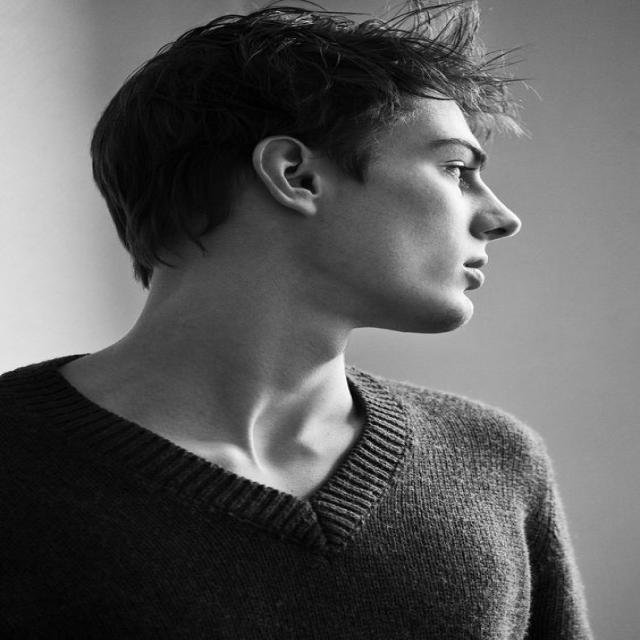front: (394, 119, 539, 314)
